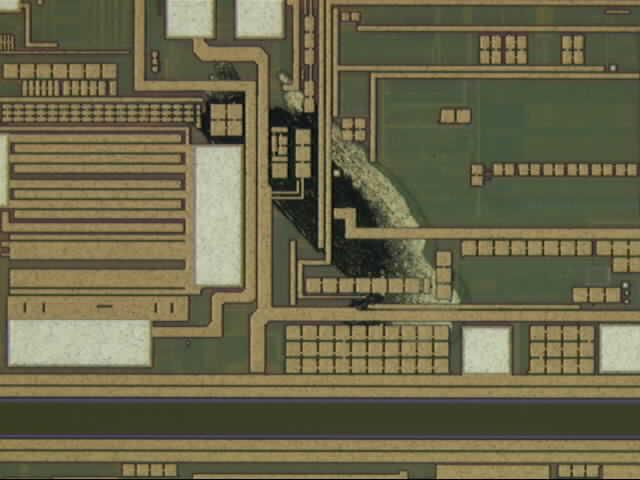BLOCK ETCH: (193, 57, 476, 372)
